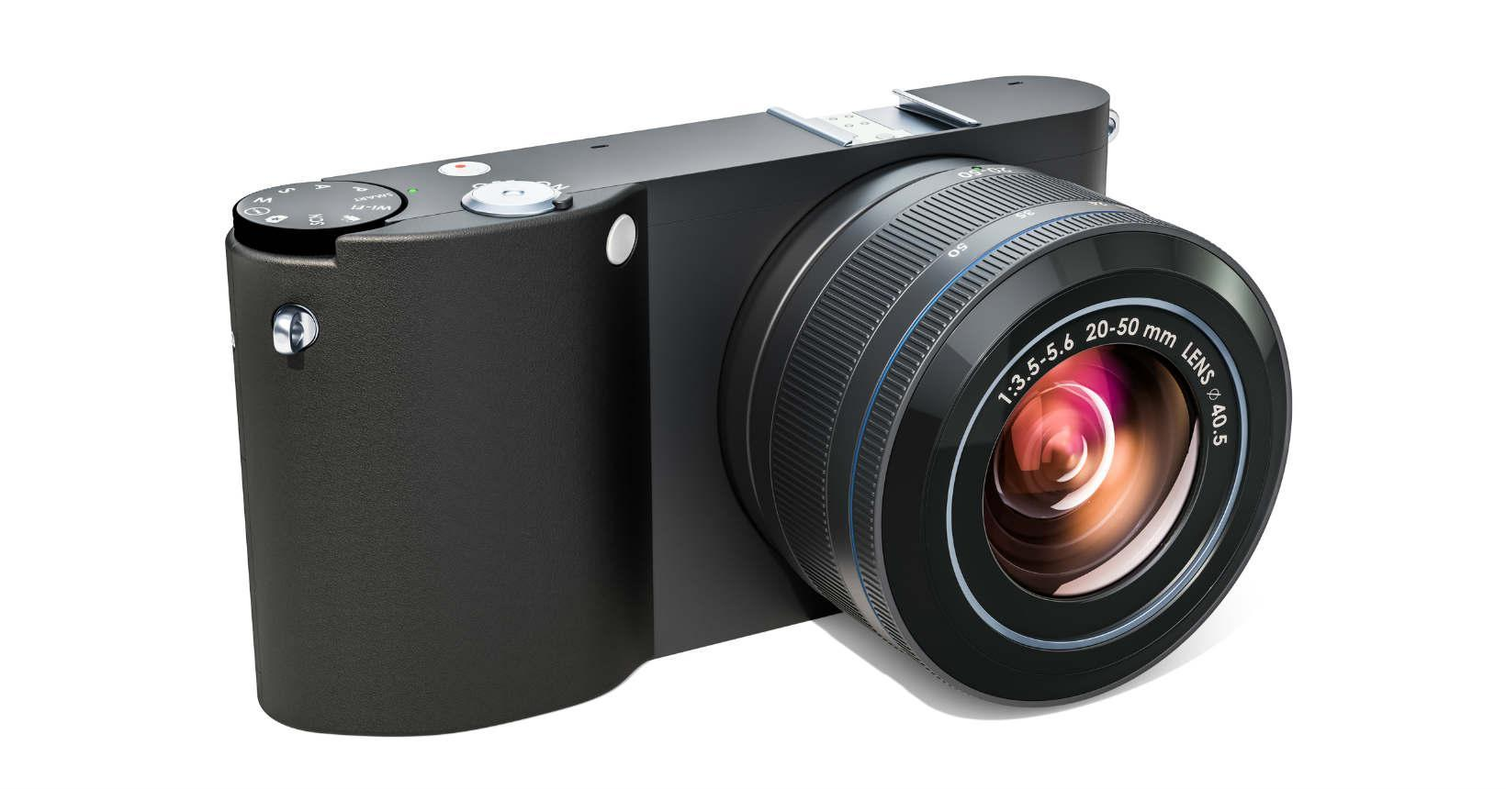degital-camera: (207, 73, 1297, 750)
